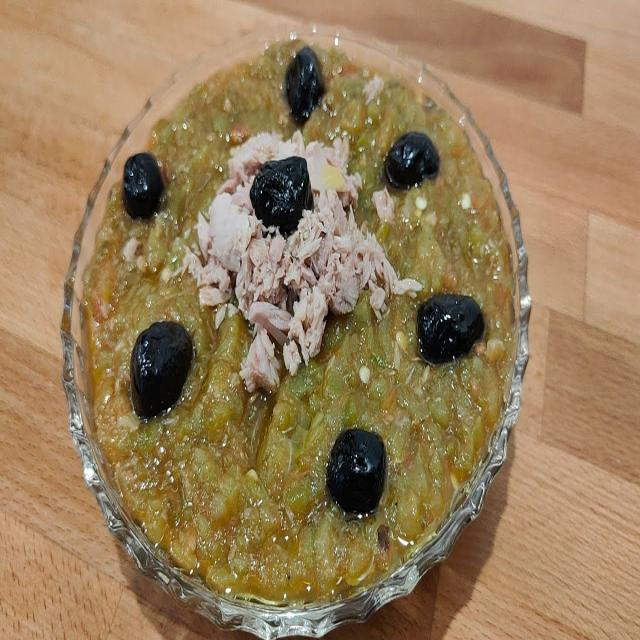Salade mechweya: (68, 24, 546, 628)
